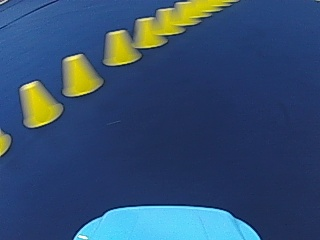cone: (18, 80, 62, 127), (61, 53, 102, 96), (102, 28, 139, 66), (132, 16, 162, 49), (152, 7, 180, 36), (171, 2, 195, 26)
